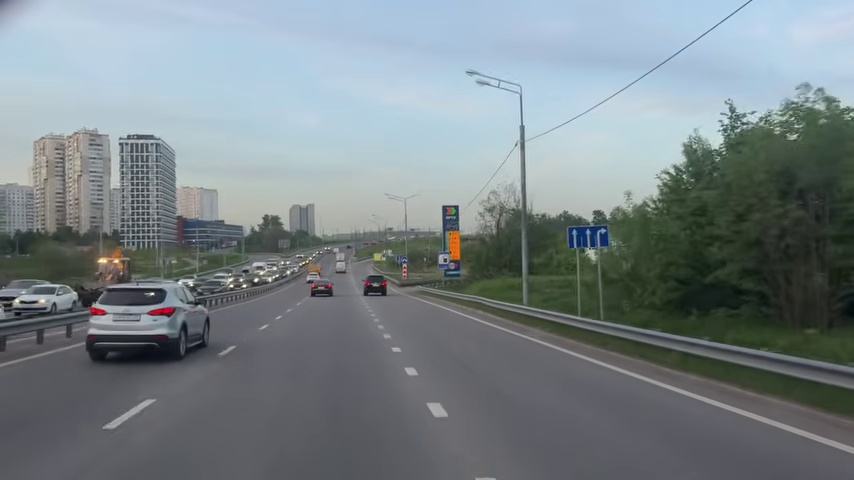apagada: (462, 67, 486, 89)
